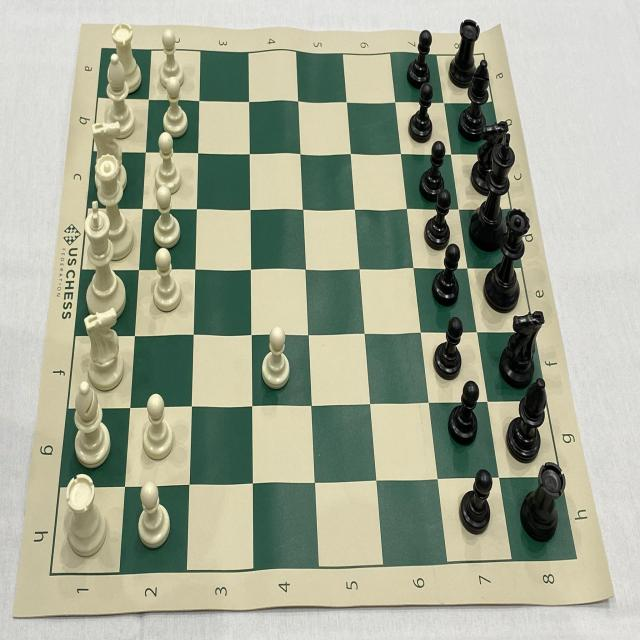black-bishop: (506, 374, 548, 463), (458, 55, 491, 143)
black-king: (469, 132, 515, 253)
black-knight: (499, 306, 544, 386), (470, 119, 511, 195)
black-pawn: (446, 378, 481, 448), (458, 468, 493, 537), (416, 187, 452, 252), (432, 316, 464, 381), (417, 139, 448, 204), (431, 243, 462, 307), (404, 83, 433, 145), (405, 25, 431, 90)
black-queen: (483, 204, 529, 312)
black-rook: (518, 460, 568, 544), (448, 17, 482, 90)
white-bishop: (68, 378, 111, 469), (100, 48, 138, 139)
white-king: (79, 198, 127, 322)
white-knight: (76, 304, 126, 392), (89, 118, 128, 196)
white-pawn: (137, 388, 175, 462), (134, 479, 172, 548), (148, 244, 184, 314), (258, 320, 292, 393), (150, 130, 183, 197), (148, 185, 182, 250), (160, 75, 190, 142), (155, 27, 186, 90)
white-queen: (91, 153, 135, 264)
white-rook: (61, 472, 110, 561), (107, 21, 143, 96)
